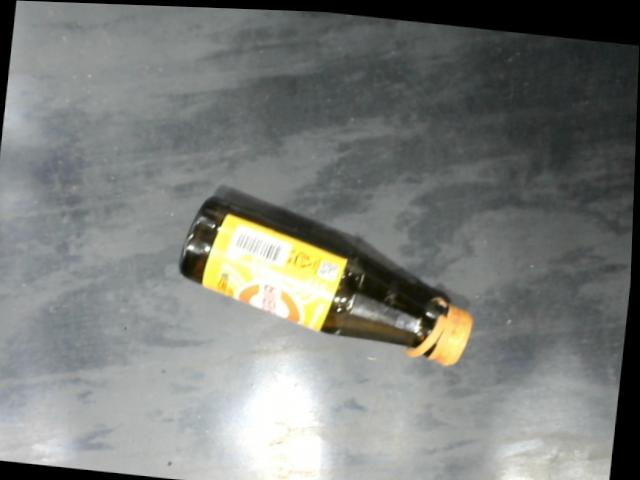glass: (179, 192, 476, 365)
